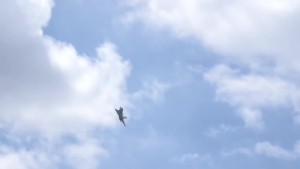flight: (113, 106, 128, 128)
